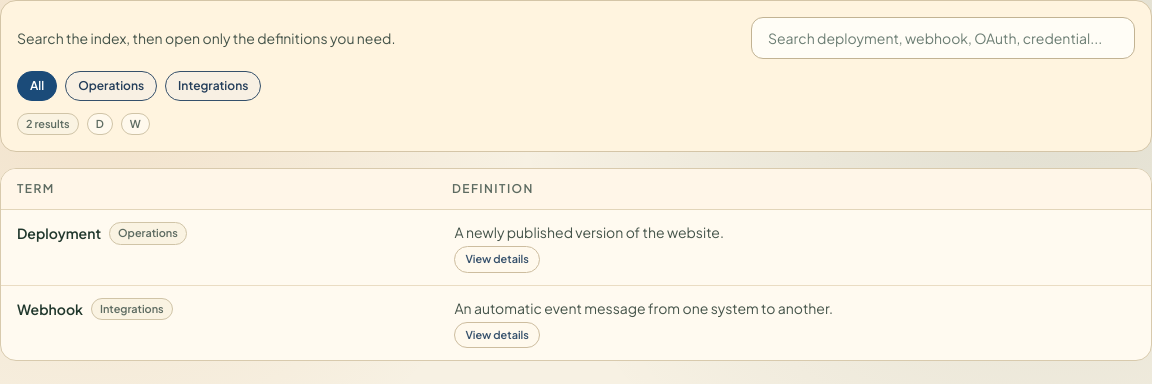
Test: manual-glossary-index interactions › filters terms by search and category
Expected: the text "Deployment" is shown, [17,224,101,244]
Expected: the text "Webhook" is shown, [17,299,83,319]
Click the button "Operations".
click(111, 86)  # box [65,71,157,101]
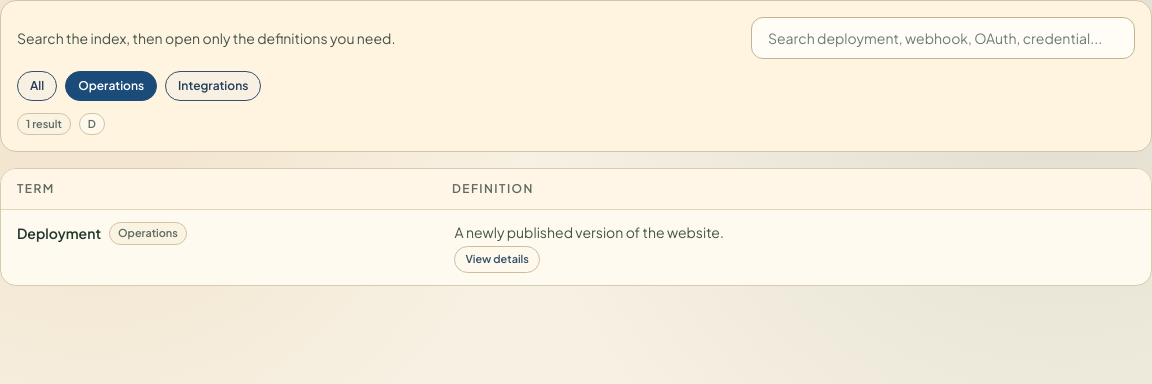
Expected: the text "Deployment" is shown, [17,224,101,244]
Click the button "All".
click(37, 86)  # box [17,71,57,101]
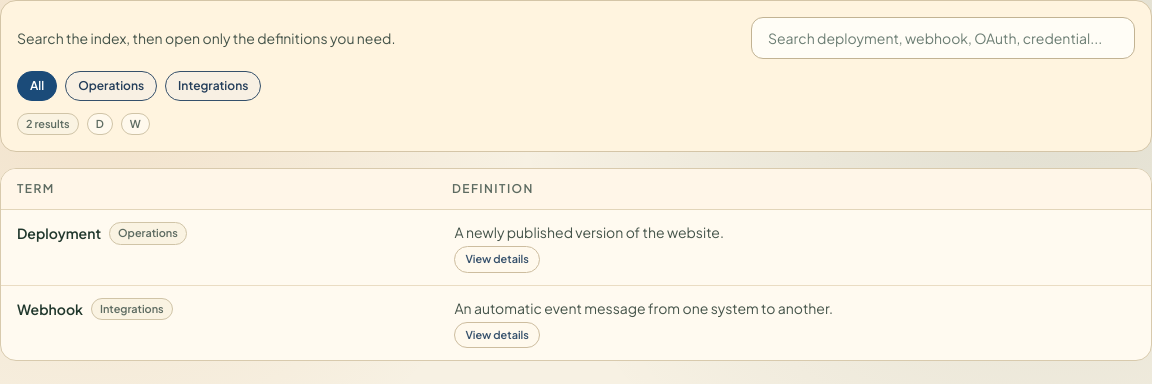
Type "stripe" into the field named "search glossary".
click(943, 38); type("stripe")  # box [751,17,1135,59]
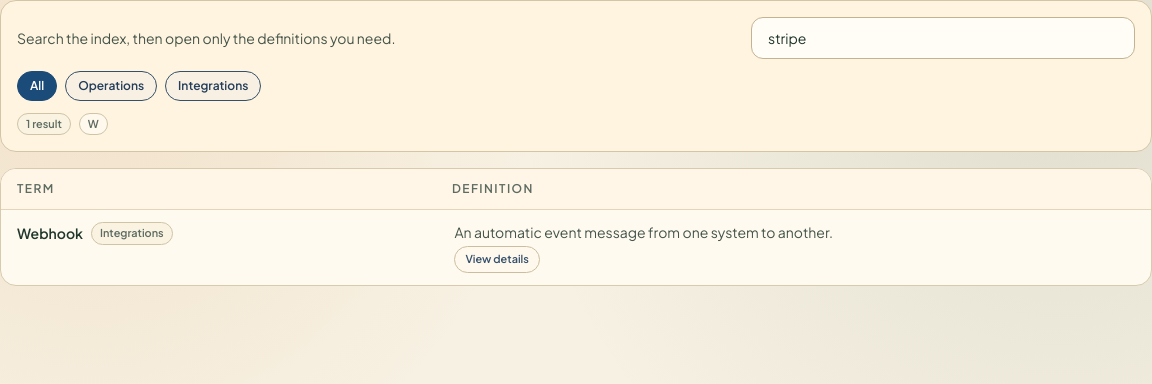
Now the text "Webhook" is shown, box [17,224,83,244]
Now the heading "Deployment" is gone
